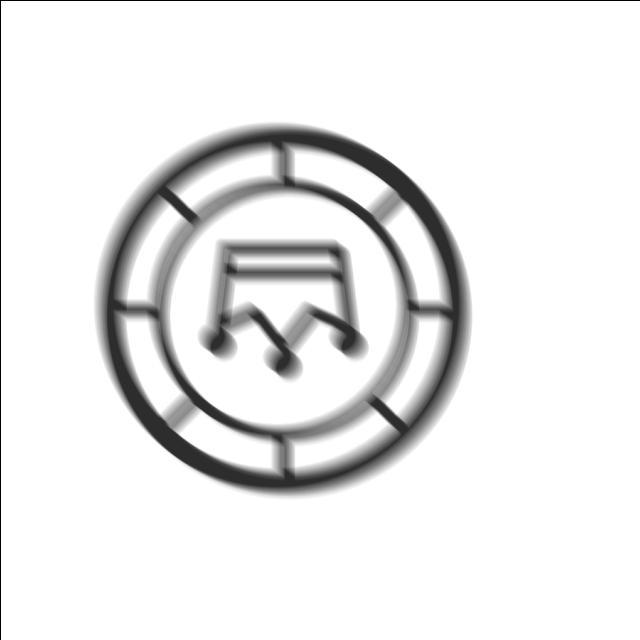coin: (90, 114, 481, 501)
